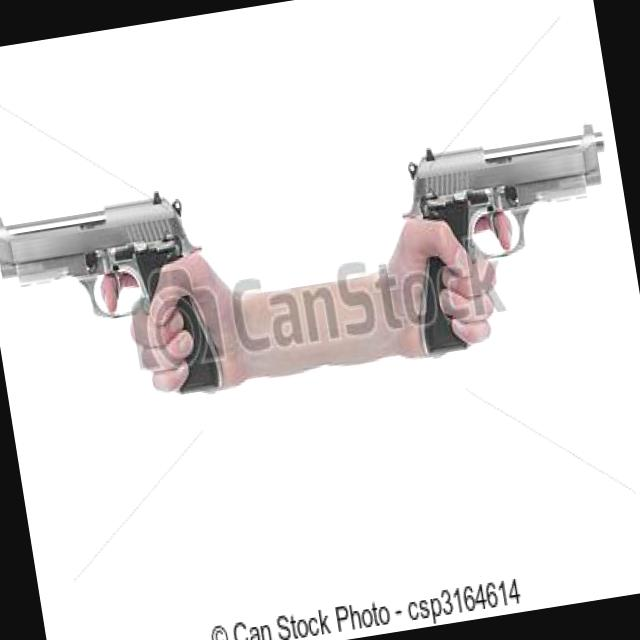handgun: (394, 117, 628, 356)
